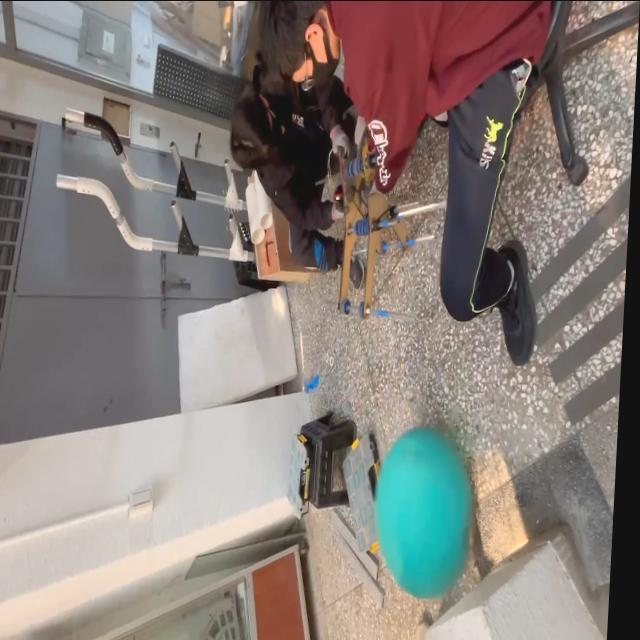ALGAE: (369, 425, 478, 601)
